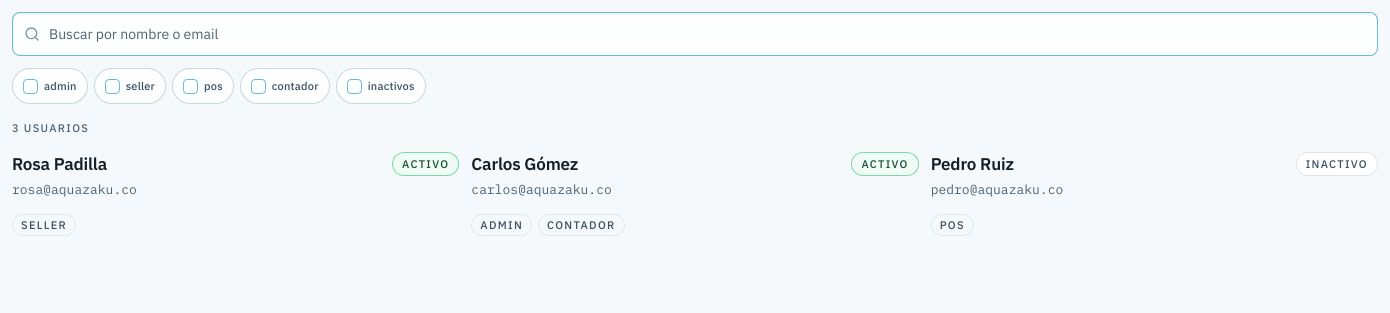
Test: el conteo dice si hay filtro puesto › con filtro dice cuántos de cuántos: hay gente escondida
Type "rosa" into the search field at coordinates (695, 34), box [12,12,1378,56]
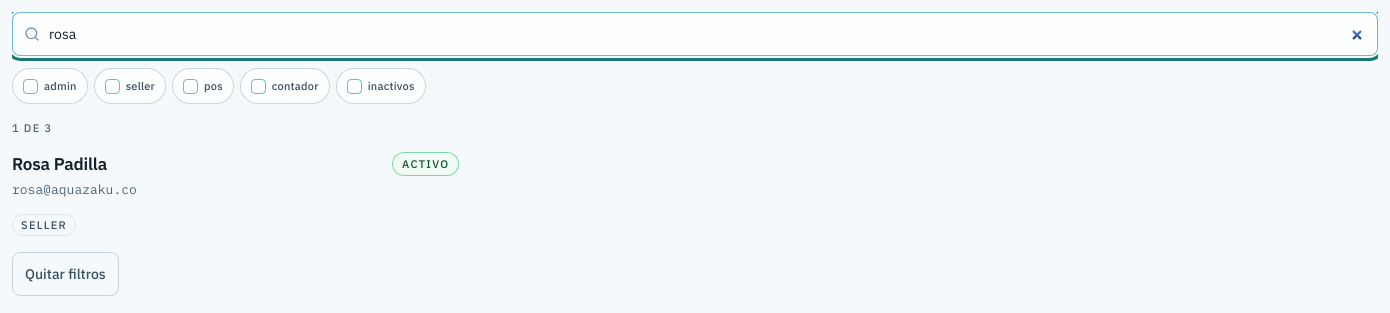
Expected: the message reads "1 de 3", [12,121,52,135]
